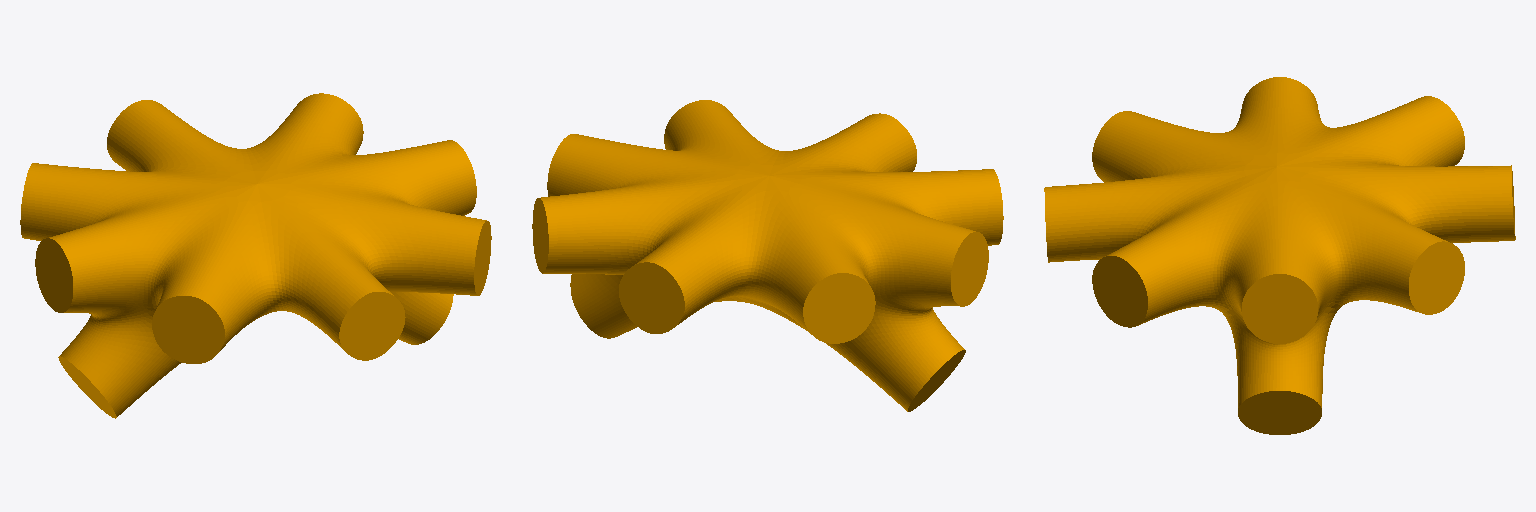
The robot description file, URDF, robot "object":
<robot name="object">
  <link name="object">
    <visual>
      <origin xyz="0 0 0"/>
      <geometry>
        <mesh filename="visual.obj" scale="1 1 1"/>
      </geometry>
    </visual>
    <collision>
      <origin xyz="0 0 0"/>
      <geometry>
        <mesh filename="visual.obj" scale="1 1 1"/>
      </geometry>
    </collision>
    <inertial>
      <mass value="0.05"/>
      <inertia ixx="7.067176256523806e-05" iyy="0.00010581911528405709" izz="0.00015062260951377294" ixy="2.4346108590833704e-09" ixz="-1.0646622607954837e-07" iyz="-2.600517996920885e-06"/>
    </inertial>
  </link>
</robot>

--- What the picture shows (computed from the rendered views, not written in the file) ---
The picture shows the robot from 3 angles, left to right: view 1: azimuth 30°, elevation 25°; view 2: azimuth 150°, elevation 25°; view 3: azimuth 270°, elevation 25°; orthographic projection.
Robot: object — 1 links, 0 joints (none); root link object; default pose: all joints at 0.
Links seen in each view (by area): view 1: object; view 2: object; view 3: object.
Link boxes in pixels (<box>): object: <box>20,93,491,418</box>; object: <box>532,100,1003,411</box>; object: <box>1044,77,1515,434</box>.
Size in the robot's own frame: 0.1838 by 0.1845 by 0.0846 metres.
Meshes: 1 distinct files referenced, 1 mesh visuals loaded (1 OBJ).
